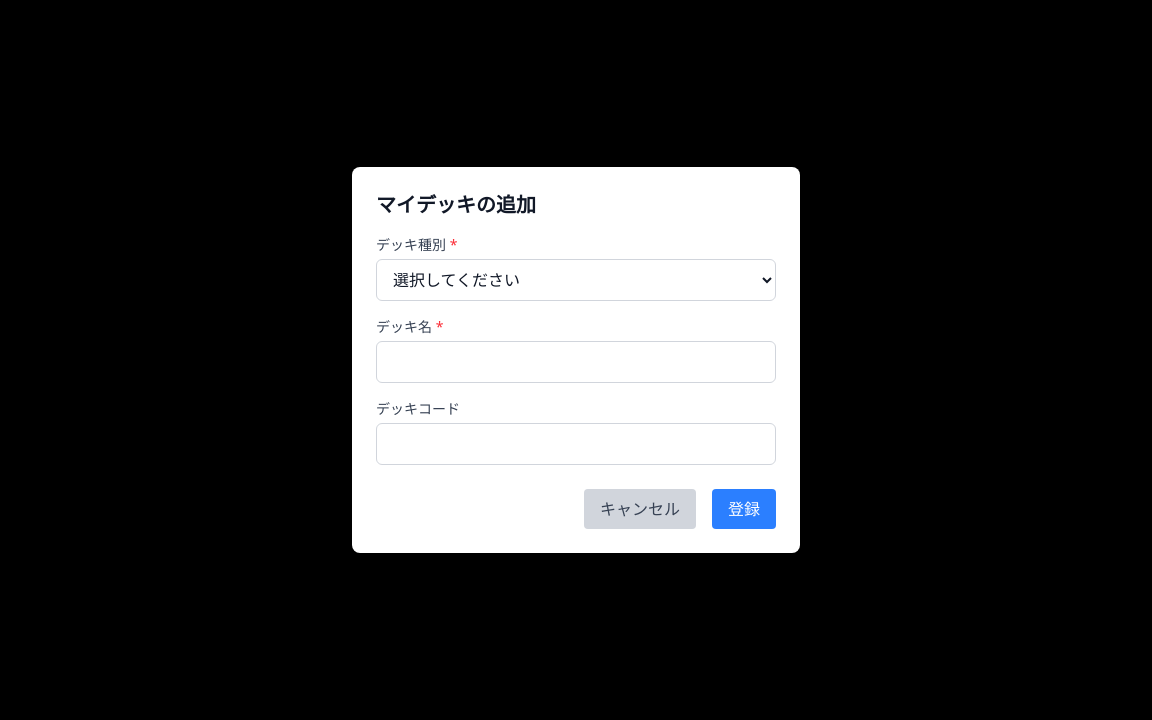
Test: MyDeckDialog › バリデーション › TC-MD-DIALOG-005: deckName空で登録ボタン押下時にエラー表示
Note: 【デッキ種別選択】: デッキ種別を選択
Select "フェアリーエルフ（エルフ）" in the dropdown labelled "デッキ種別 *" at x=576, y=280, box [376, 259, 776, 301]
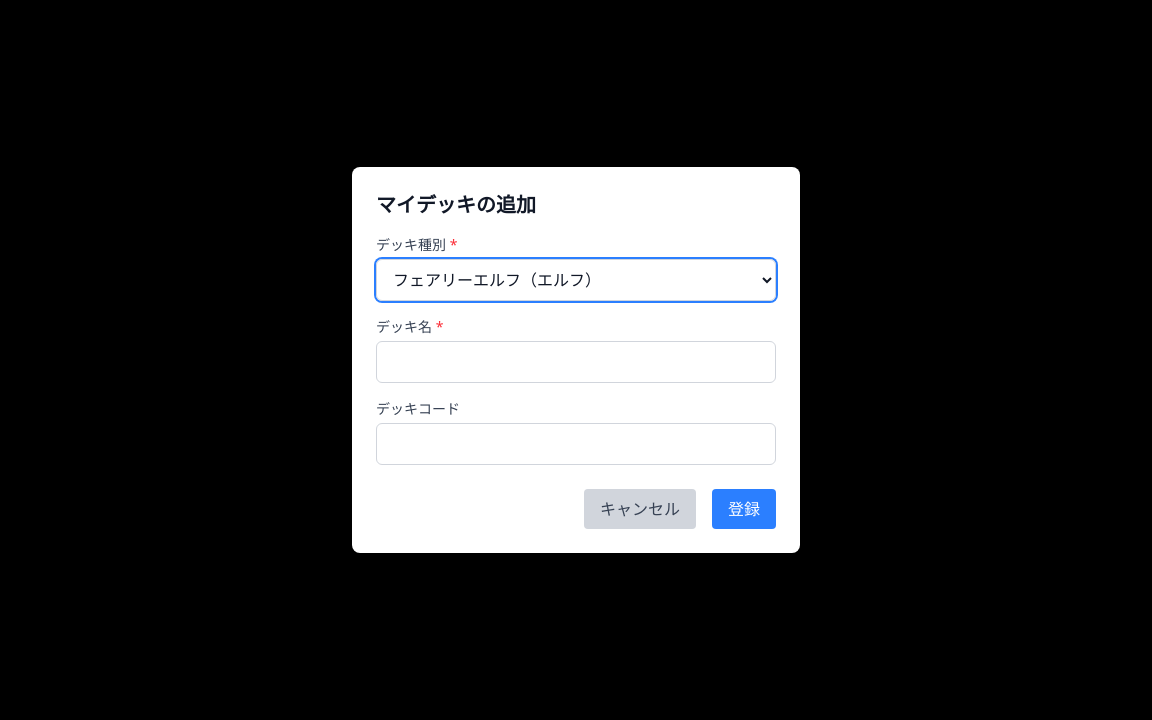
Note: 【登録ボタンクリック】: deckName未入力で登録ボタンを押す
Click the button "登録" at x=744, y=509, box [712, 489, 776, 529]
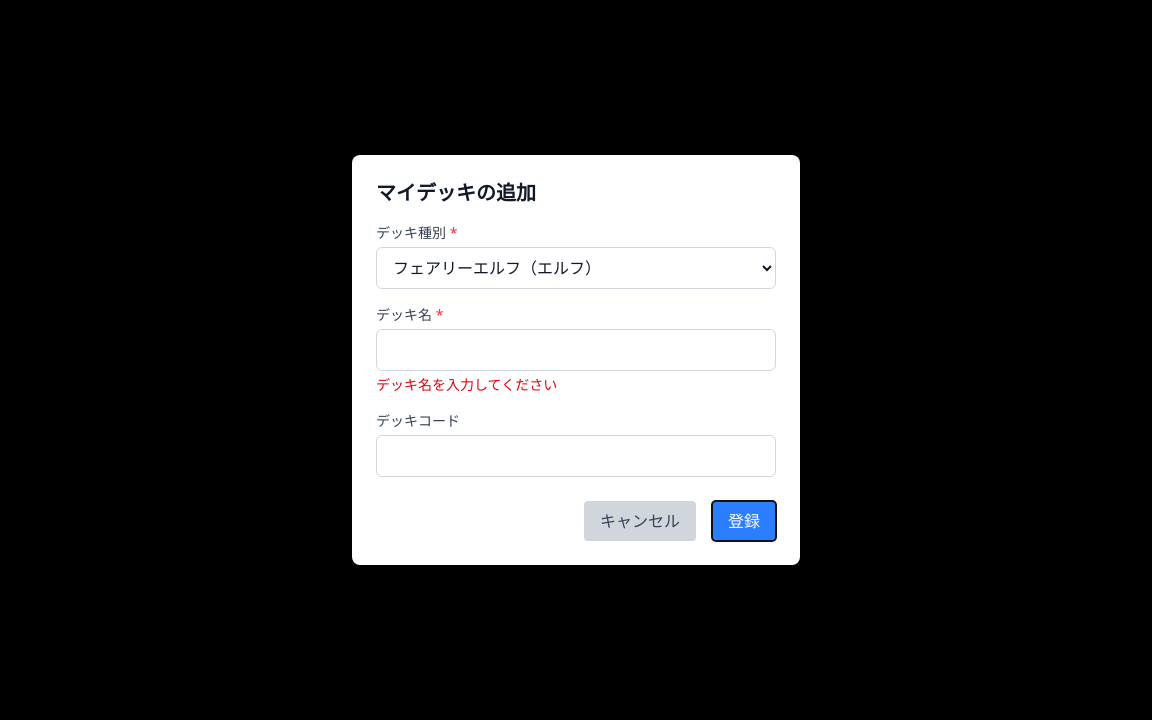
expect the text "デッキ名を入力してください" is shown: met, box [376, 375, 557, 394]
